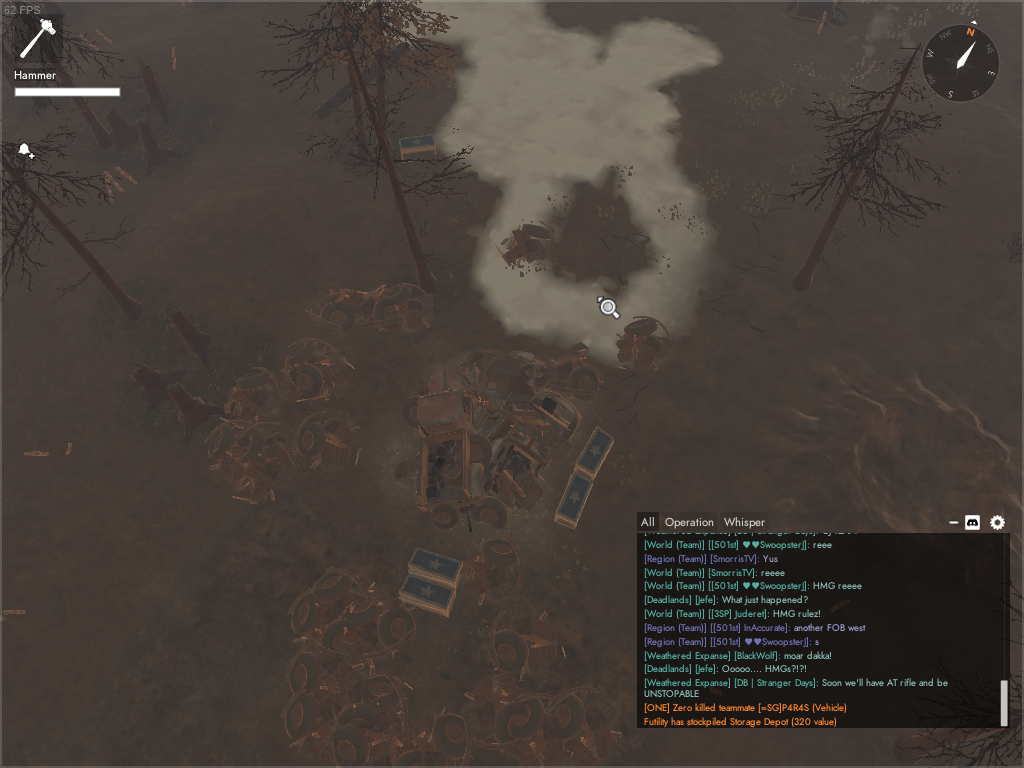player: (476, 379, 515, 422)
scrap: (279, 645, 418, 767), (457, 673, 628, 768), (286, 565, 420, 671), (201, 415, 303, 509), (302, 277, 439, 339), (479, 607, 564, 689), (389, 700, 479, 768), (279, 336, 360, 407), (293, 402, 368, 476), (462, 534, 531, 613), (222, 362, 289, 428), (613, 310, 677, 377), (547, 341, 608, 403)
scrapyard: (392, 335, 588, 539)
storage_box: (549, 469, 601, 533), (394, 572, 464, 619), (566, 423, 618, 486), (402, 543, 464, 591), (394, 131, 440, 165)
